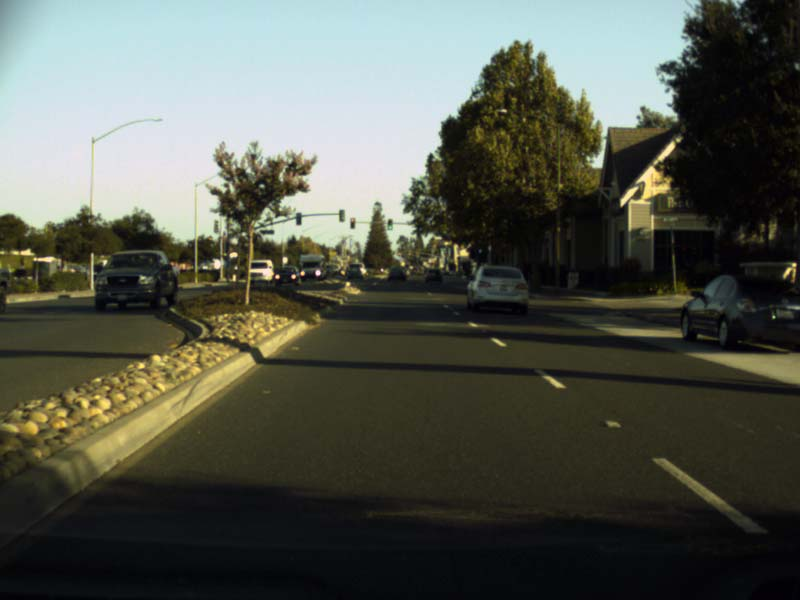Green: (387, 218, 393, 230), (478, 242, 483, 252), (418, 222, 422, 231)
Red: (350, 217, 355, 229)
